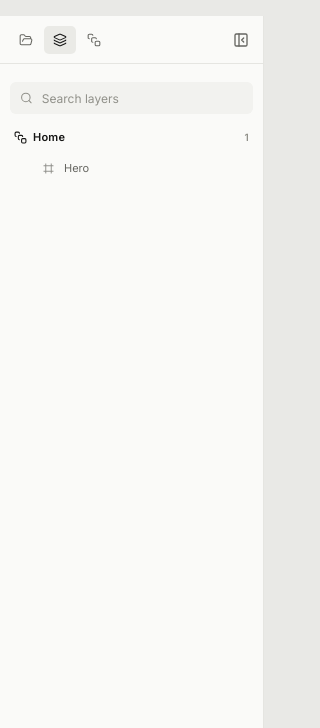
Test: LeftSidebar layer rename › provides one keyboard-accessible navigation strip and restores it after collapse
Press ArrowRight in the tab named "Layers", box x1=44 y1=26 x2=76 y2=54
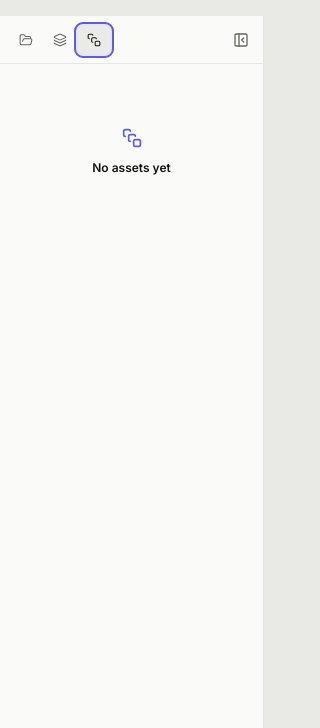
Expected: the tab named "Assets" is selected, x1=78 y1=26 x2=110 y2=54
Click the button with test id "left-sidebar-toggle". click: (241, 40)
box: x1=227 y1=26 x2=255 y2=54
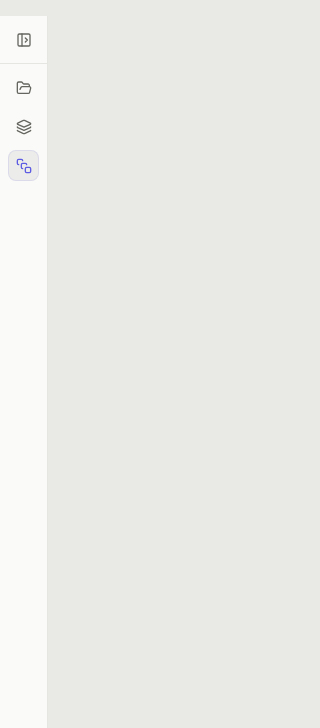
Click the button named "Pages". click: (24, 88)
box: x1=8 y1=72 x2=39 y2=103
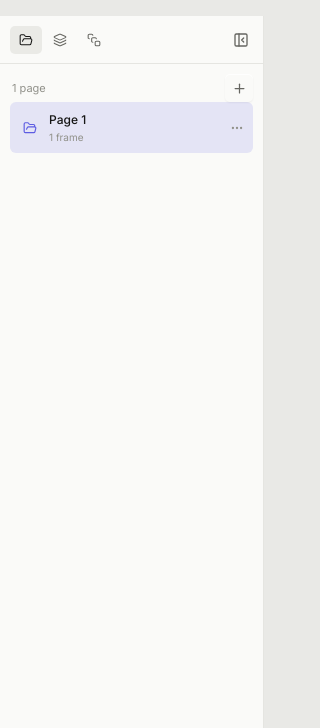
Expected: the element named "Pages panel" is shown, x1=10 y1=74 x2=253 y2=153
